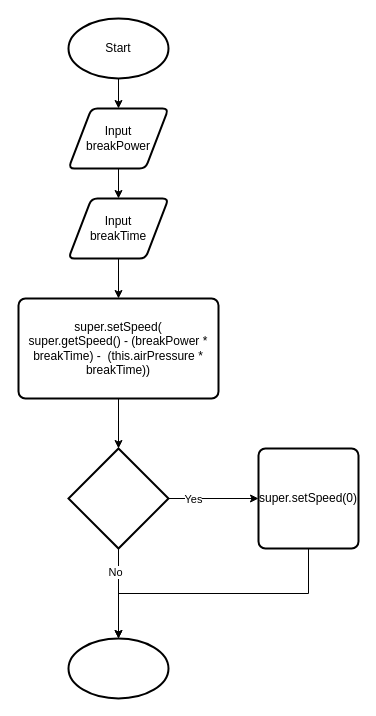
Some shapes in this 376 by 716 pixel diagram are drawn without their labels. Each missing label, with the centre of its shape:
"if super.getSpeed() < 0" goes at point (118, 498).
"Stop" goes at point (118, 668).
